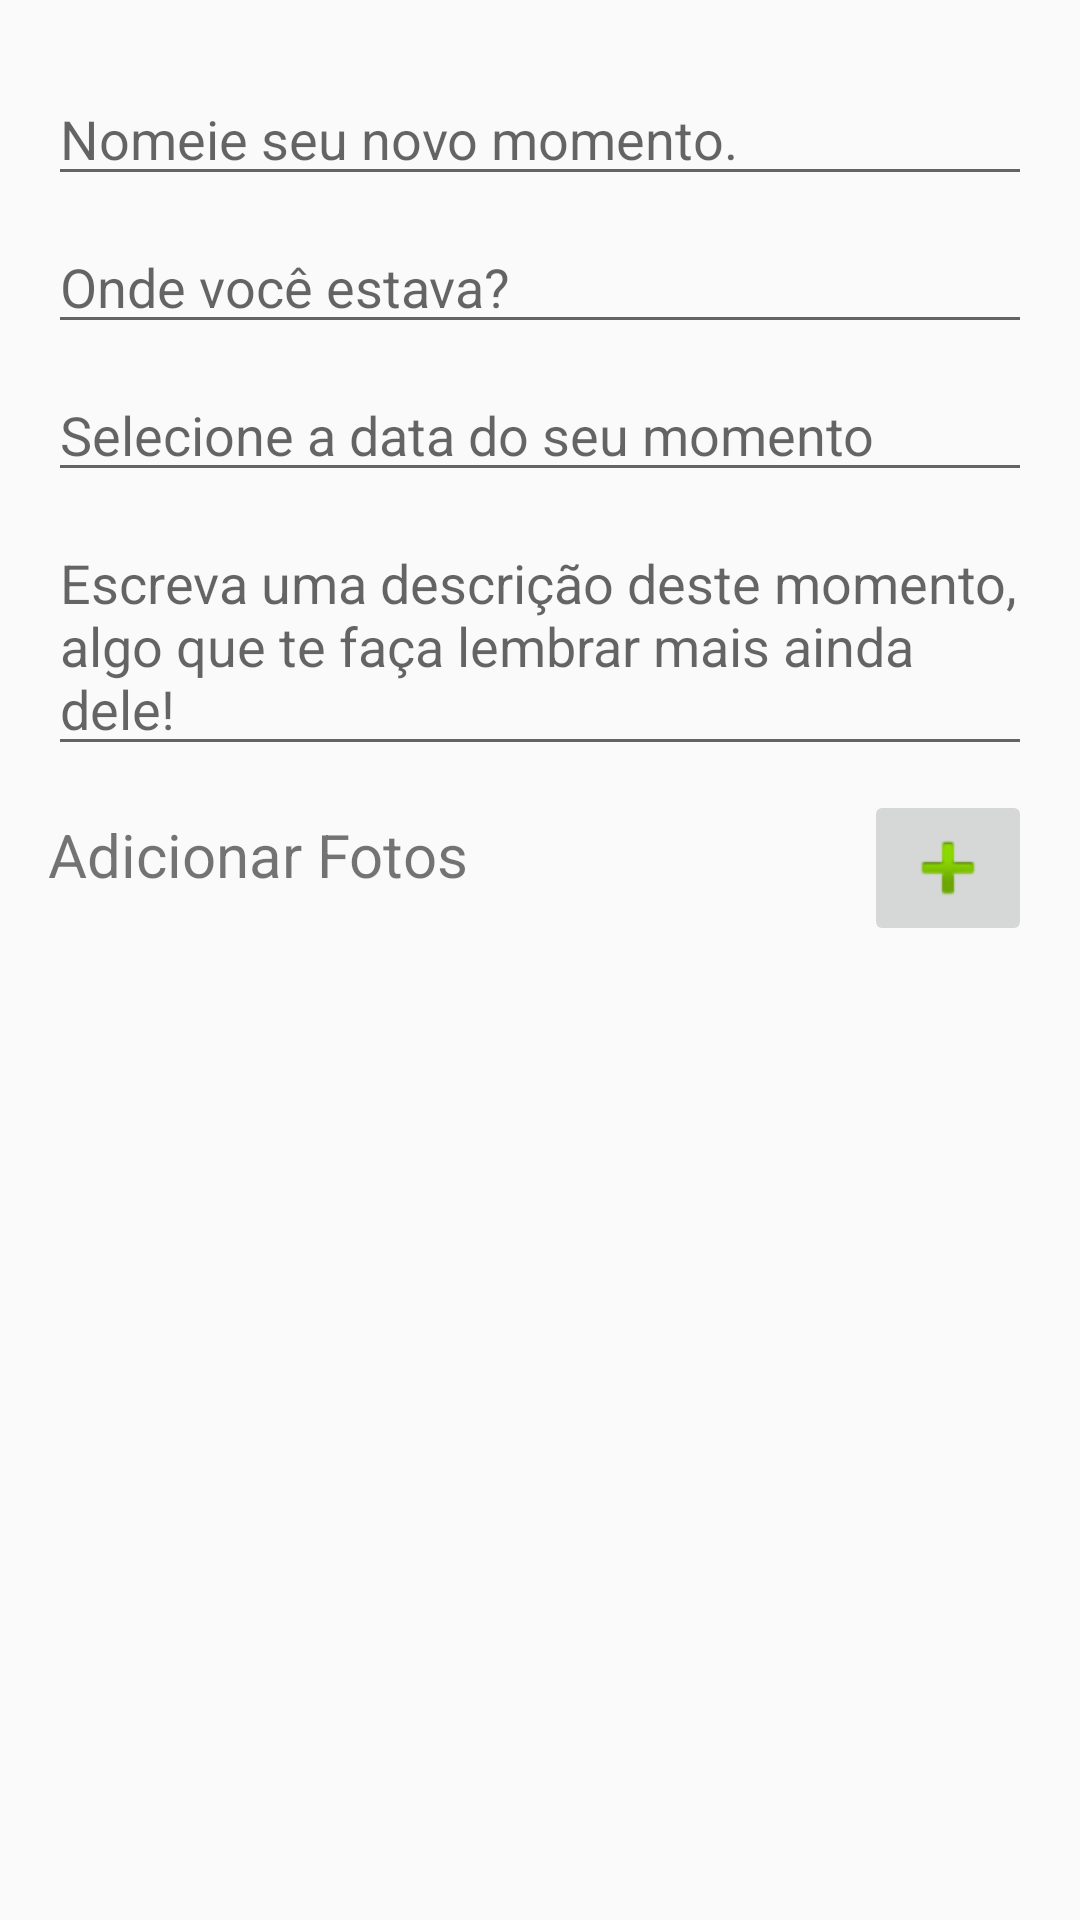

Where to tap for icons on this 1080x1920 app screen, as [x,y]:
Adicionar Imagem: [948,868]
